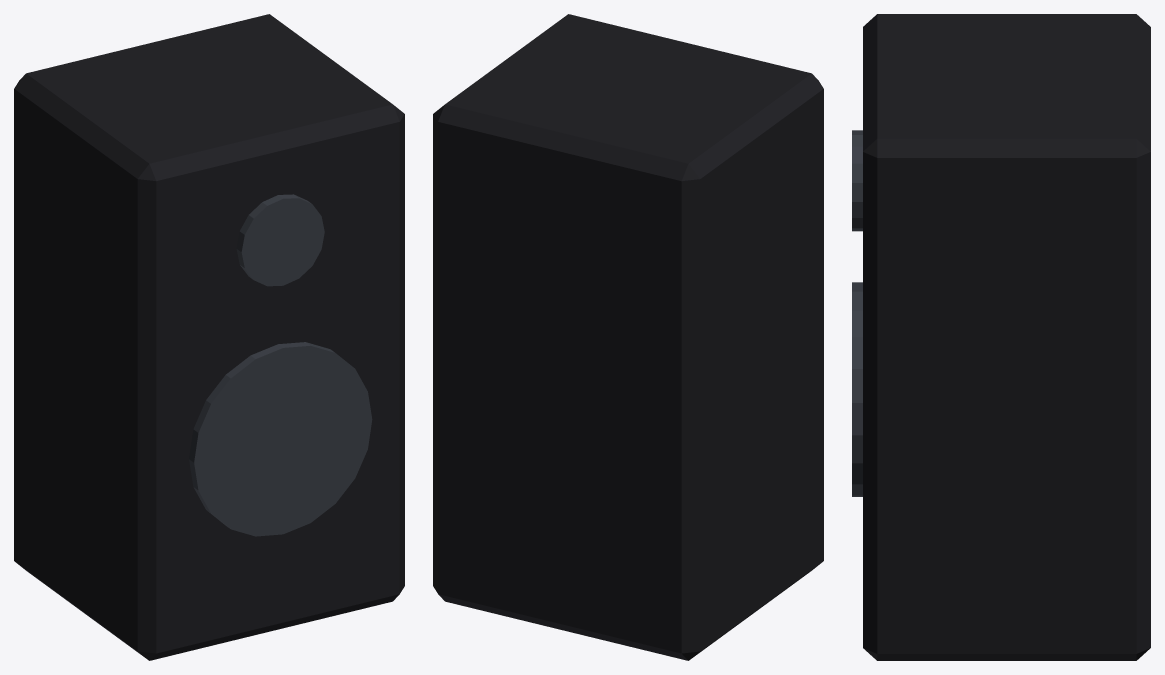
Rendered from studio_speaker.fbx.
3 views of the same model, side by side, from view 1: azimuth 30°, elevation 25°; view 2: azimuth 150°, elevation 25°; view 3: azimuth 270°, elevation 25° (orthographic). The views are drawn at different scales.
Parts seen in each view (by area): view 1: studio_speaker; view 2: studio_speaker; view 3: studio_speaker.
Boxes of the visible parts, box(x1,y1,x2,y2) form: studio_speaker: box(14, 14, 404, 660); studio_speaker: box(433, 14, 823, 660); studio_speaker: box(852, 14, 1150, 660).
Bounding box in the file's own units: 0.45 × 0.8 × 0.415.
Materials: 1 (1 with a texture image).
